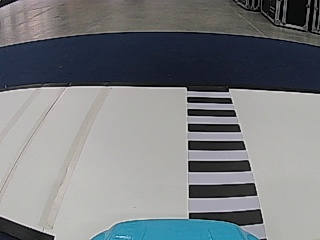CrossWalk: (186, 87, 263, 220)
